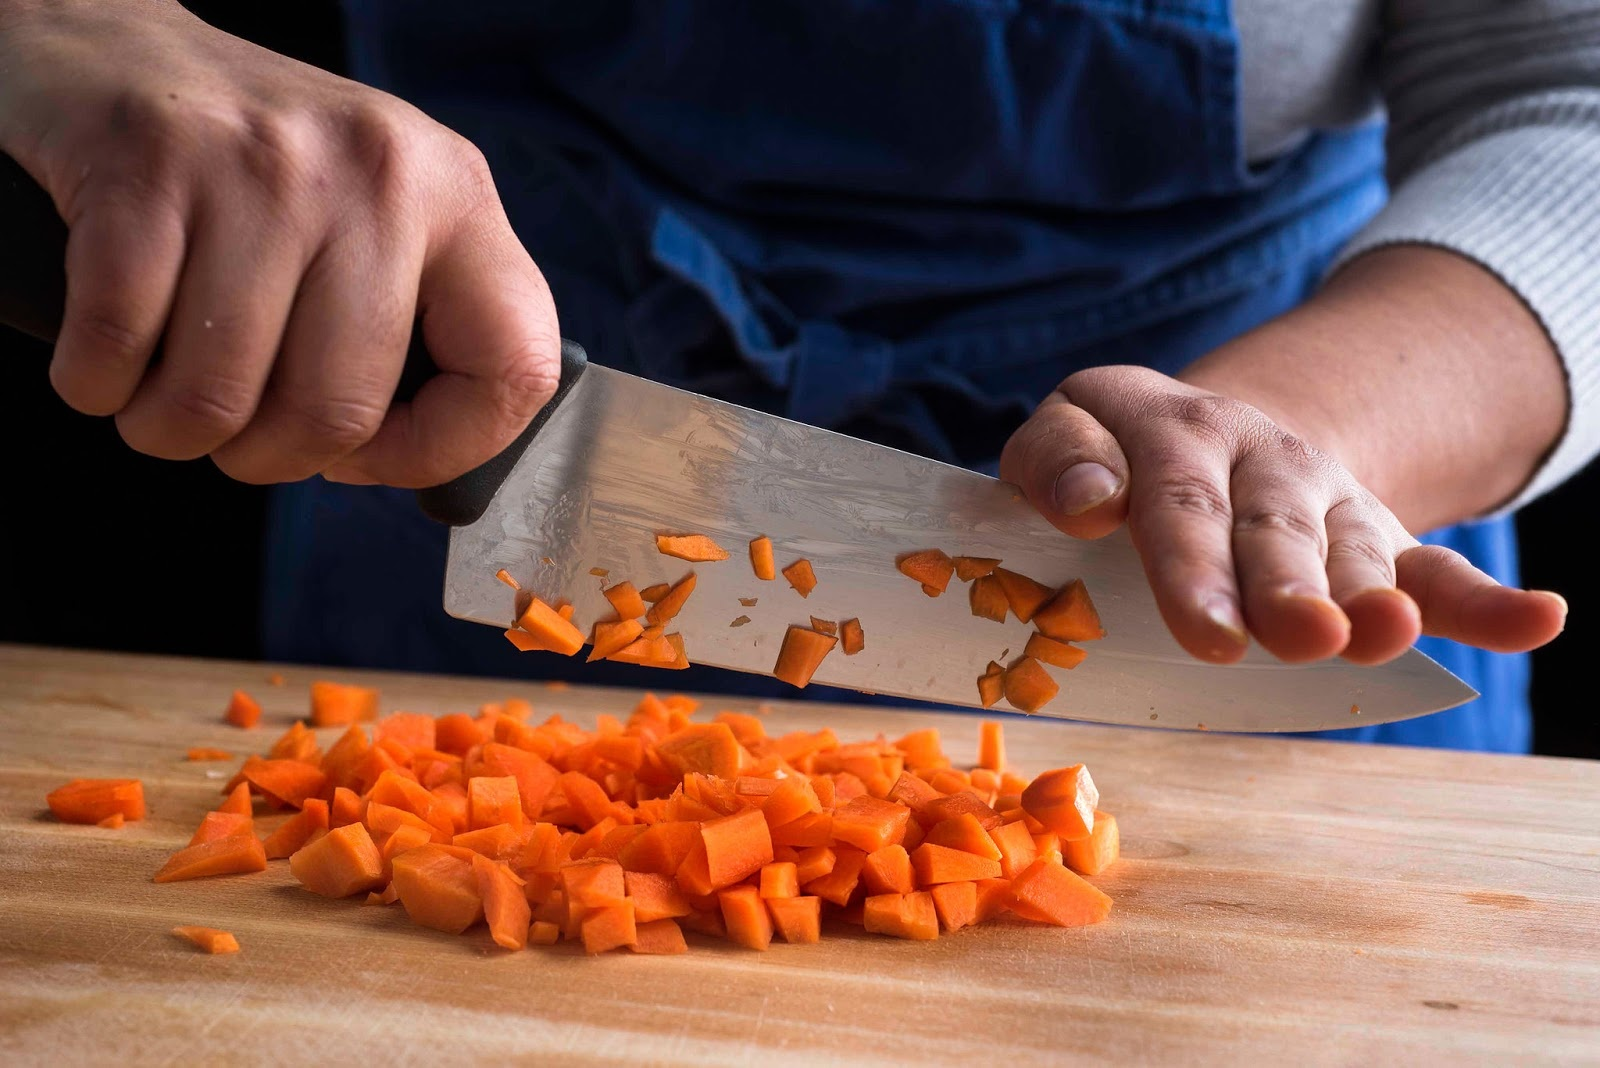knife: (8, 168, 1486, 741)
